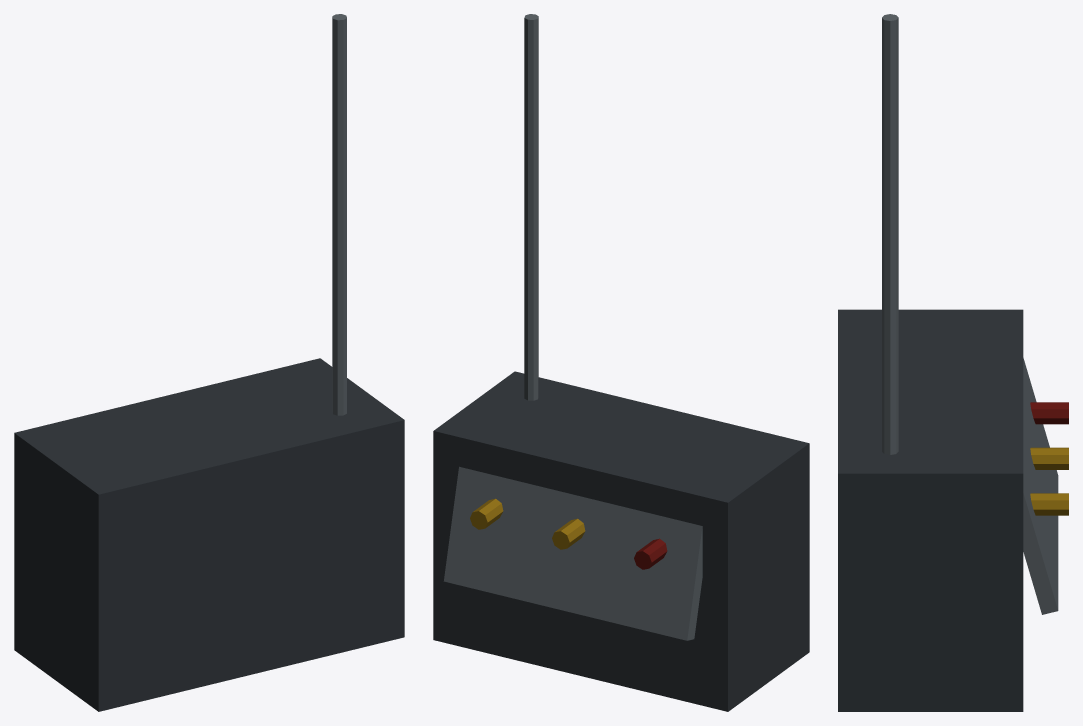
Rendered from AUR_CommsConsole.obj.
The picture shows the model from 3 angles, left to right: view 1: azimuth 30°, elevation 25°; view 2: azimuth 150°, elevation 25°; view 3: azimuth 270°, elevation 25°; orthographic projection. The views are drawn at different scales.
Visible parts, largest first — view 1: cabinet_0, antenna_5; view 2: cabinet_0, panel_1, antenna_5, knob_4, knob_2, knob_3; view 3: cabinet_0, antenna_5, panel_1, knob_3, knob_4, knob_2.
Part boxes in pixels (bbox=[...]): cabinet_0: bbox=[14, 358, 404, 711]; antenna_5: bbox=[332, 14, 346, 415]; cabinet_0: bbox=[433, 371, 809, 711]; panel_1: bbox=[443, 466, 702, 640]; antenna_5: bbox=[524, 14, 538, 400]; knob_4: bbox=[470, 498, 503, 529]; knob_2: bbox=[634, 538, 667, 569]; knob_3: bbox=[552, 518, 585, 549]; cabinet_0: bbox=[838, 309, 1023, 711]; antenna_5: bbox=[882, 14, 898, 454]; panel_1: bbox=[1023, 358, 1058, 614]; knob_3: bbox=[1030, 447, 1068, 469]; knob_4: bbox=[1030, 493, 1068, 515]; knob_2: bbox=[1030, 402, 1068, 424].
Bounding box in the file's own units: 1.15 × 2.2 × 0.685.
